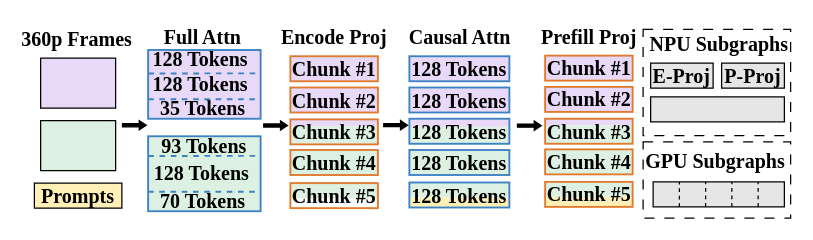
This 813x240 diagram has some shape labels left out. Here are the shapes that lost their labels. From the top down, the centre of each, then its label:
At pixel 77 82: "f 1".
At pixel 716 109: "E-P Proj".
At pixel 77 145: "f 2".
At pixel 718 194: "Attn".
